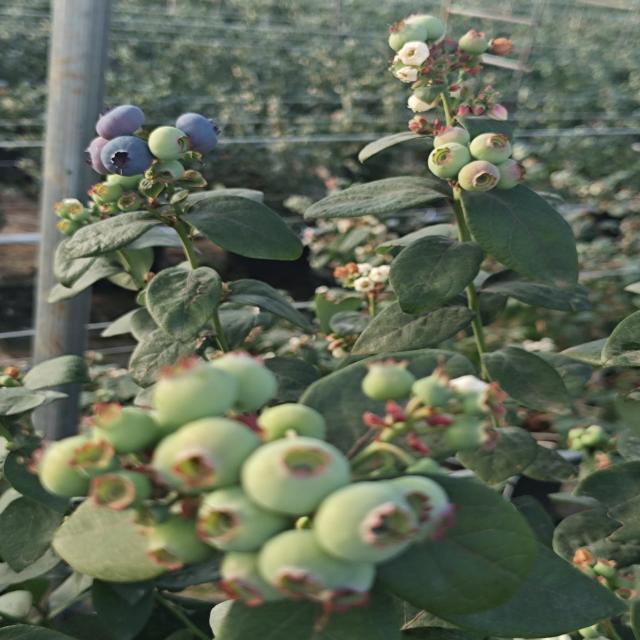ripe: (99, 137, 158, 176), (91, 104, 154, 137), (178, 112, 227, 147), (79, 138, 118, 177)
